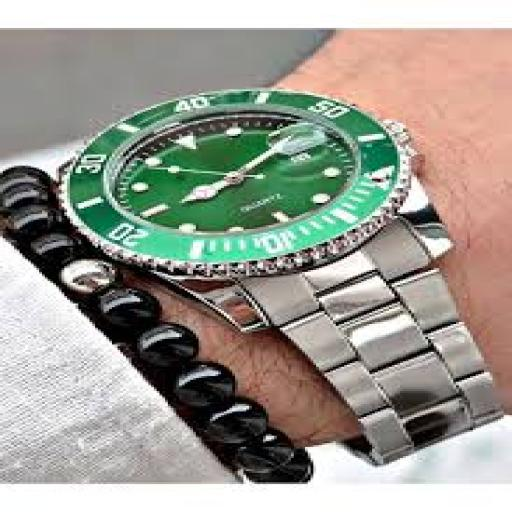KolSaati: (0, 32, 512, 460)
